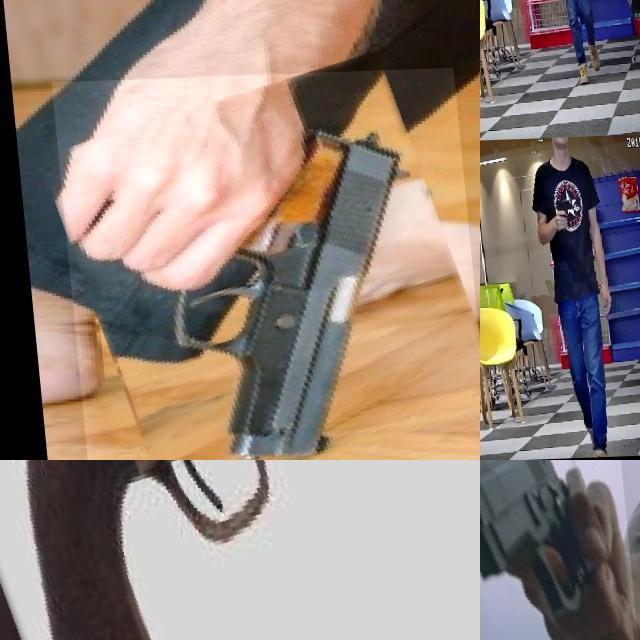gun-knife-thesis - v11 Yolov5 augmented: (47, 71, 480, 460), (0, 460, 480, 640), (480, 460, 637, 640), (540, 194, 564, 234), (547, 0, 564, 11)
